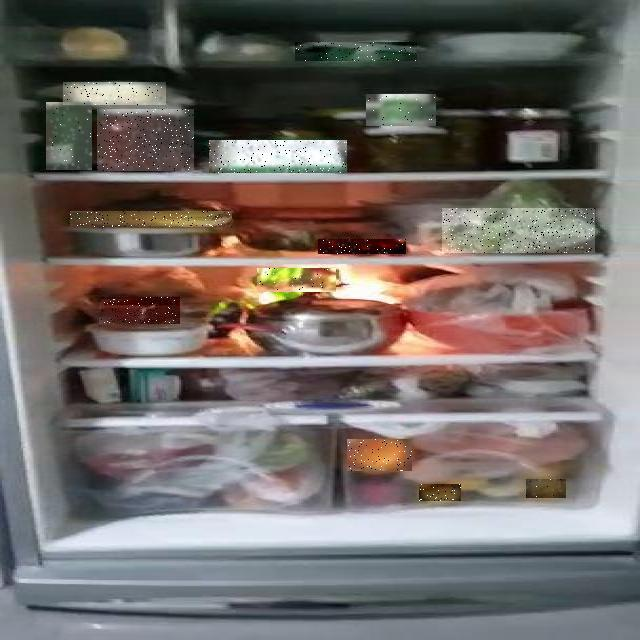Banana: (70, 211, 232, 227)
Cheese: (209, 140, 347, 173), (63, 82, 166, 105)
Cream: (295, 42, 417, 61)
Lemon: (527, 479, 567, 498), (419, 484, 461, 501)
Lettuce: (442, 208, 595, 253)
Orange: (347, 439, 412, 471)
Tomato Paste: (99, 297, 180, 324), (318, 239, 406, 254)
Tomatoes: (97, 109, 194, 171)
Water: (47, 102, 93, 170), (257, 268, 336, 292)
Yoghurt: (366, 94, 436, 126)
